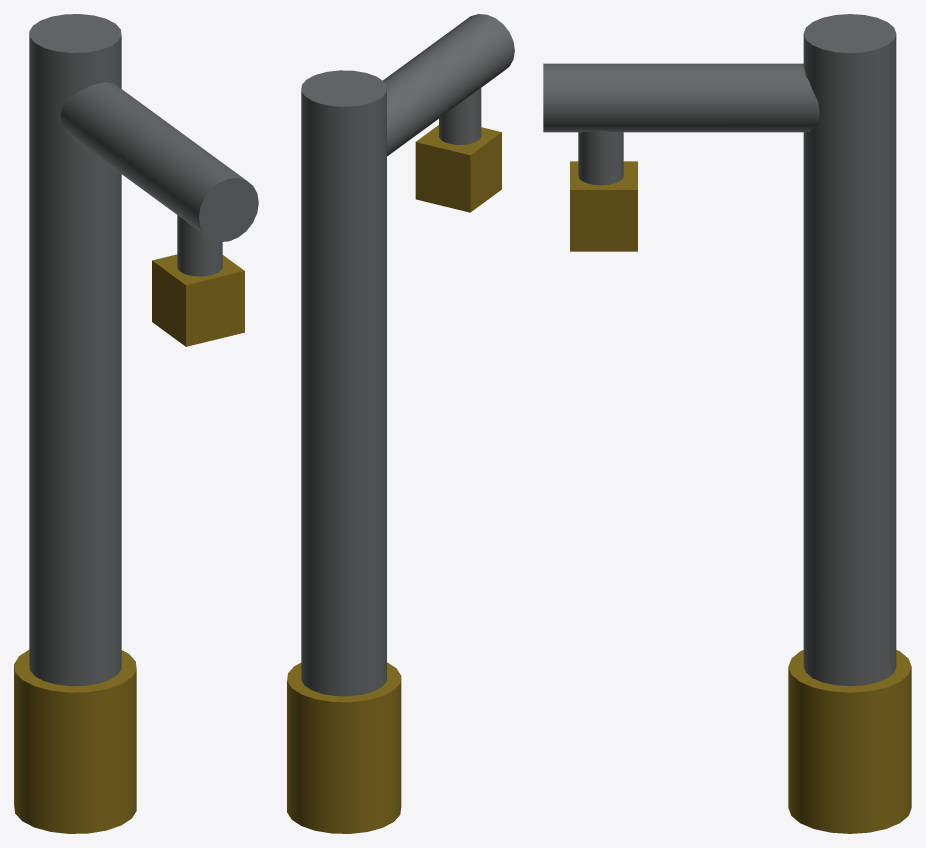
Rendered from poste.obj.
The picture shows the model from 3 angles, left to right: view 1: azimuth 30°, elevation 25°; view 2: azimuth 150°, elevation 25°; view 3: azimuth 270°, elevation 25°; orthographic projection. The views are drawn at different scales.
Visible parts, largest first — view 1: poste_pCylinder9; view 2: poste_pCylinder9; view 3: poste_pCylinder9.
Part boxes in pixels (x1,y1,x2,y2): poste_pCylinder9: (14,14,258,833); poste_pCylinder9: (287,14,514,833); poste_pCylinder9: (543,14,911,833).
Size of the model in its own units: 0.0876 by 0.607 by 0.2617.
Materials: 1 (1 with a texture image).
